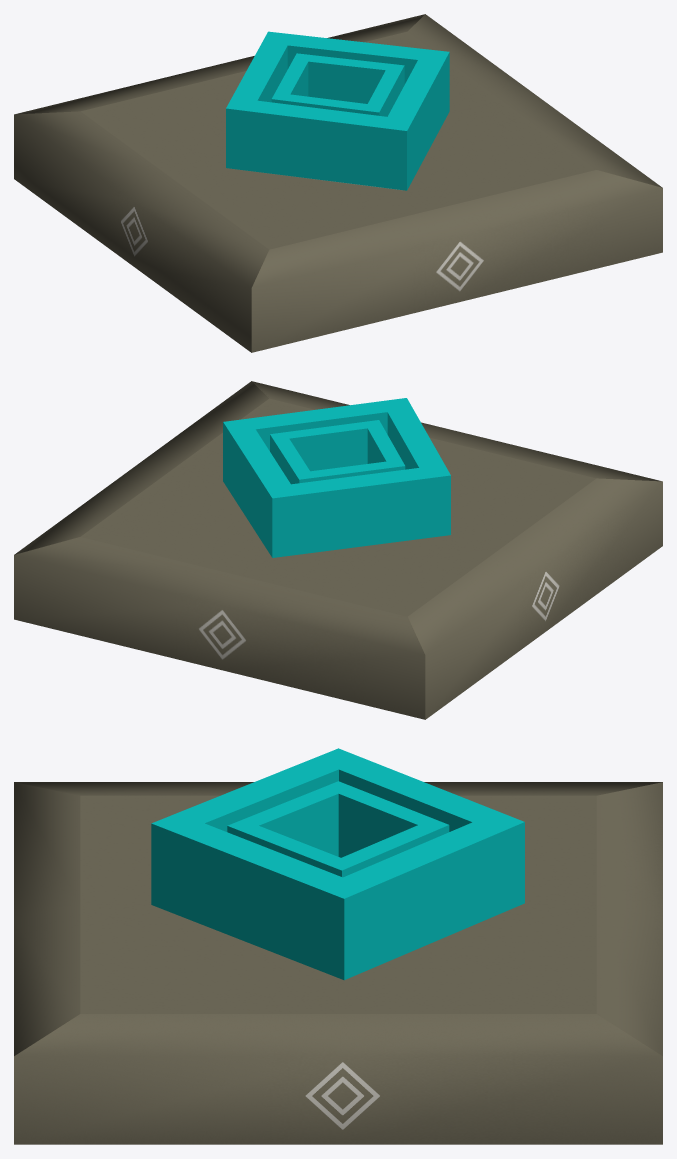
The model's file is buton.fbx.
3 views of the same model, one above another, from view 1: azimuth 30°, elevation 25°; view 2: azimuth 150°, elevation 25°; view 3: azimuth 270°, elevation 25° (orthographic). The views are drawn at different scales.
Parts seen in each view (by area): view 1: buton, buton2; view 2: buton, buton2; view 3: buton, buton2.
Boxes of the visible parts, <box> form: buton: <box>14,14,662,352</box>; buton2: <box>226,31,449,190</box>; buton: <box>14,381,662,719</box>; buton2: <box>223,398,450,557</box>; buton: <box>14,782,662,1144</box>; buton2: <box>151,748,524,980</box>.
Size of the model in its own units: 102 by 31.8 by 102.
2 materials, 1 textured.
